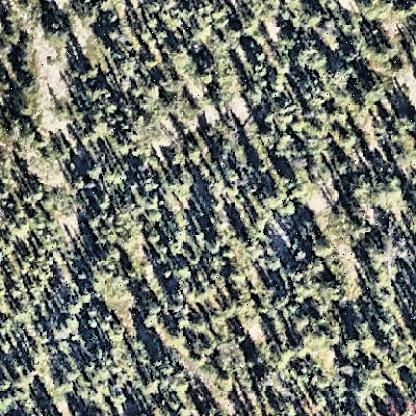tree-top: (372, 177, 411, 214), (212, 342, 246, 376), (297, 47, 330, 79), (11, 85, 41, 119), (42, 13, 69, 45), (348, 176, 379, 203), (139, 301, 166, 331), (374, 281, 402, 309), (54, 375, 80, 401), (174, 144, 202, 168), (338, 336, 363, 362), (312, 237, 338, 261), (244, 81, 268, 107), (394, 108, 416, 136), (365, 76, 387, 104), (106, 324, 130, 348), (280, 197, 304, 219), (354, 380, 378, 402), (118, 57, 140, 79), (187, 142, 207, 166), (15, 372, 35, 396), (276, 136, 295, 160), (146, 228, 166, 250), (2, 26, 22, 48), (169, 146, 189, 168), (309, 390, 329, 412), (65, 299, 85, 320), (218, 372, 239, 392), (308, 257, 331, 275), (85, 161, 103, 180), (266, 254, 283, 272), (94, 2, 118, 14), (106, 28, 122, 44), (2, 74, 14, 94)
